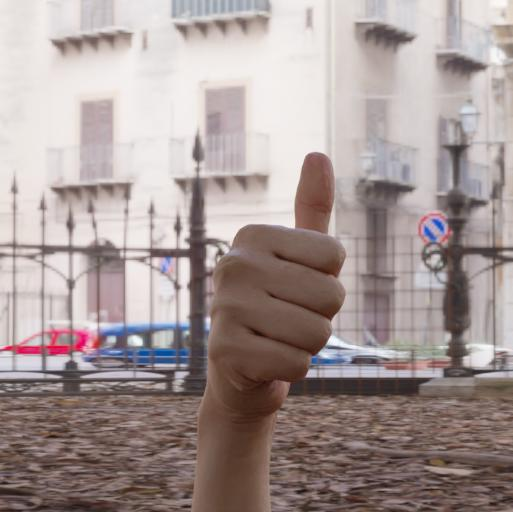thumbs-up: (202, 144, 352, 422)
